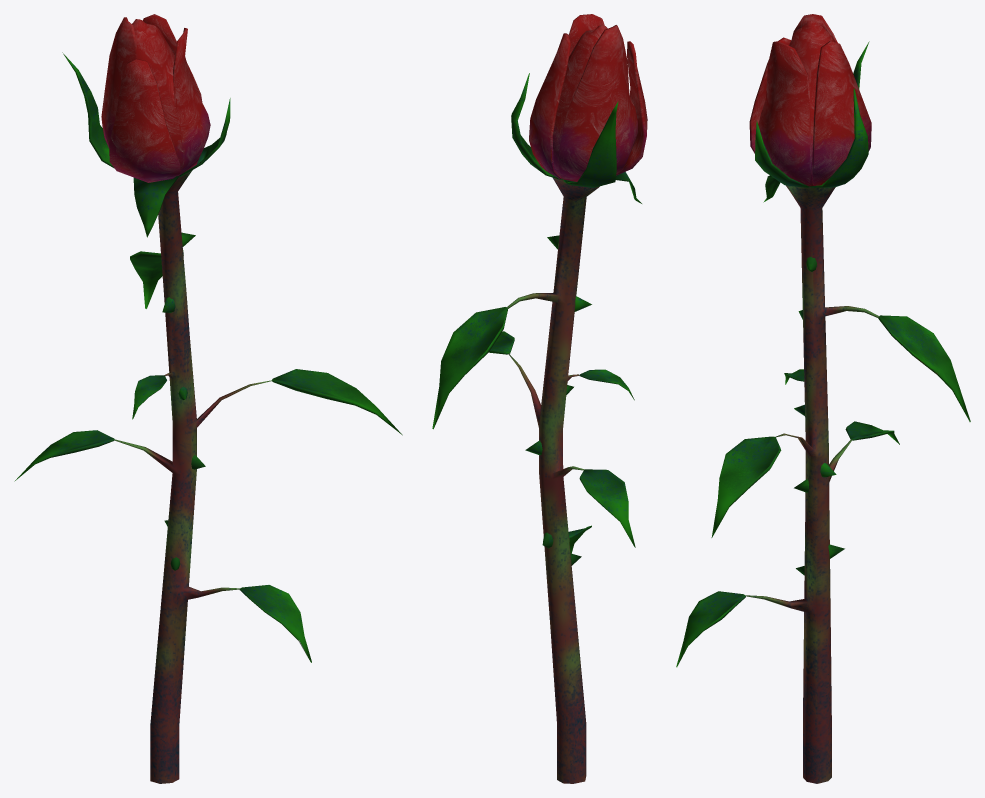
The model's file is rose.obj.
The picture shows the model from 3 angles, left to right: view 1: azimuth 30°, elevation 25°; view 2: azimuth 150°, elevation 25°; view 3: azimuth 270°, elevation 25°; orthographic projection. The views are drawn at different scales.
Visible parts, largest first — view 1: Rose_Rose_Cube.001; view 2: Rose_Rose_Cube.001; view 3: Rose_Rose_Cube.001.
Part boxes in pixels (x1,y1,x2,y2): Rose_Rose_Cube.001: (14, 14, 402, 783); Rose_Rose_Cube.001: (432, 14, 647, 783); Rose_Rose_Cube.001: (676, 14, 970, 783).
Size of the model in its own units: 0.9088 by 2.28 by 0.8179.
